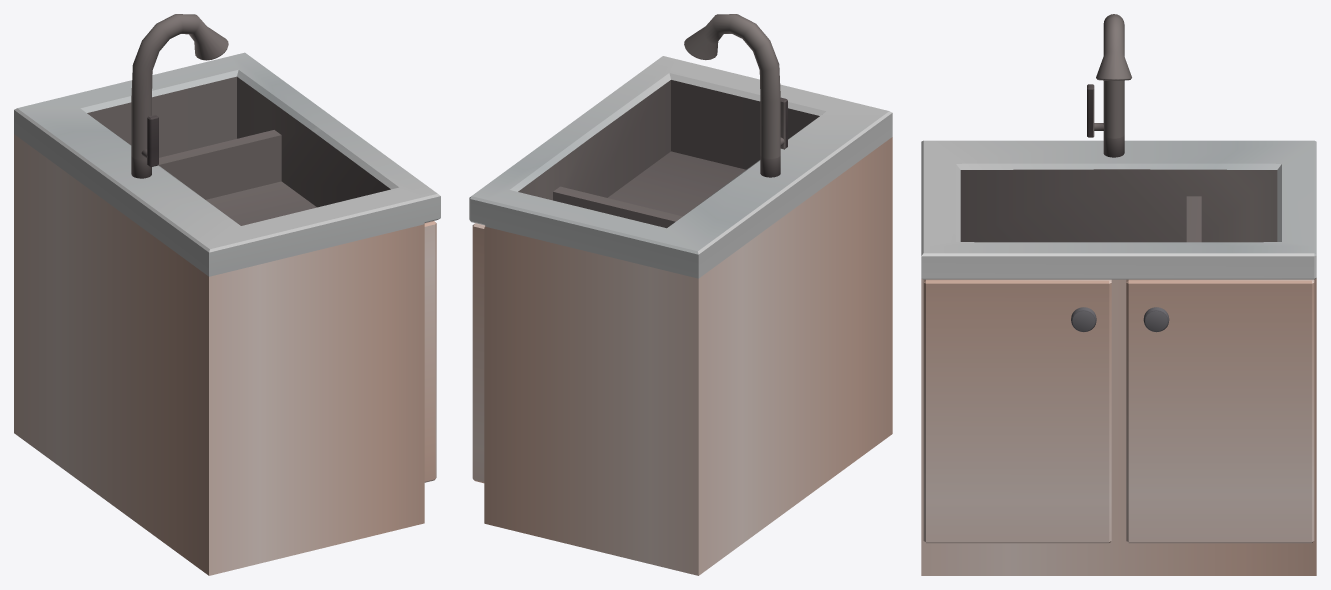
The model's file is Sink1.fbx.
3 renders of one model, left to right at view 1: azimuth 30°, elevation 25°; view 2: azimuth 150°, elevation 25°; view 3: azimuth 270°, elevation 25°, orthographic.
Visible parts, largest first — view 1: Sink; view 2: Sink; view 3: Sink.
Boxes of the visible parts, bbox=[...] form: Sink: bbox=[14, 14, 440, 575]; Sink: bbox=[469, 14, 892, 575]; Sink: bbox=[921, 14, 1316, 575].
Bounding box in the file's own units: 69.45 × 131 × 96.99.
